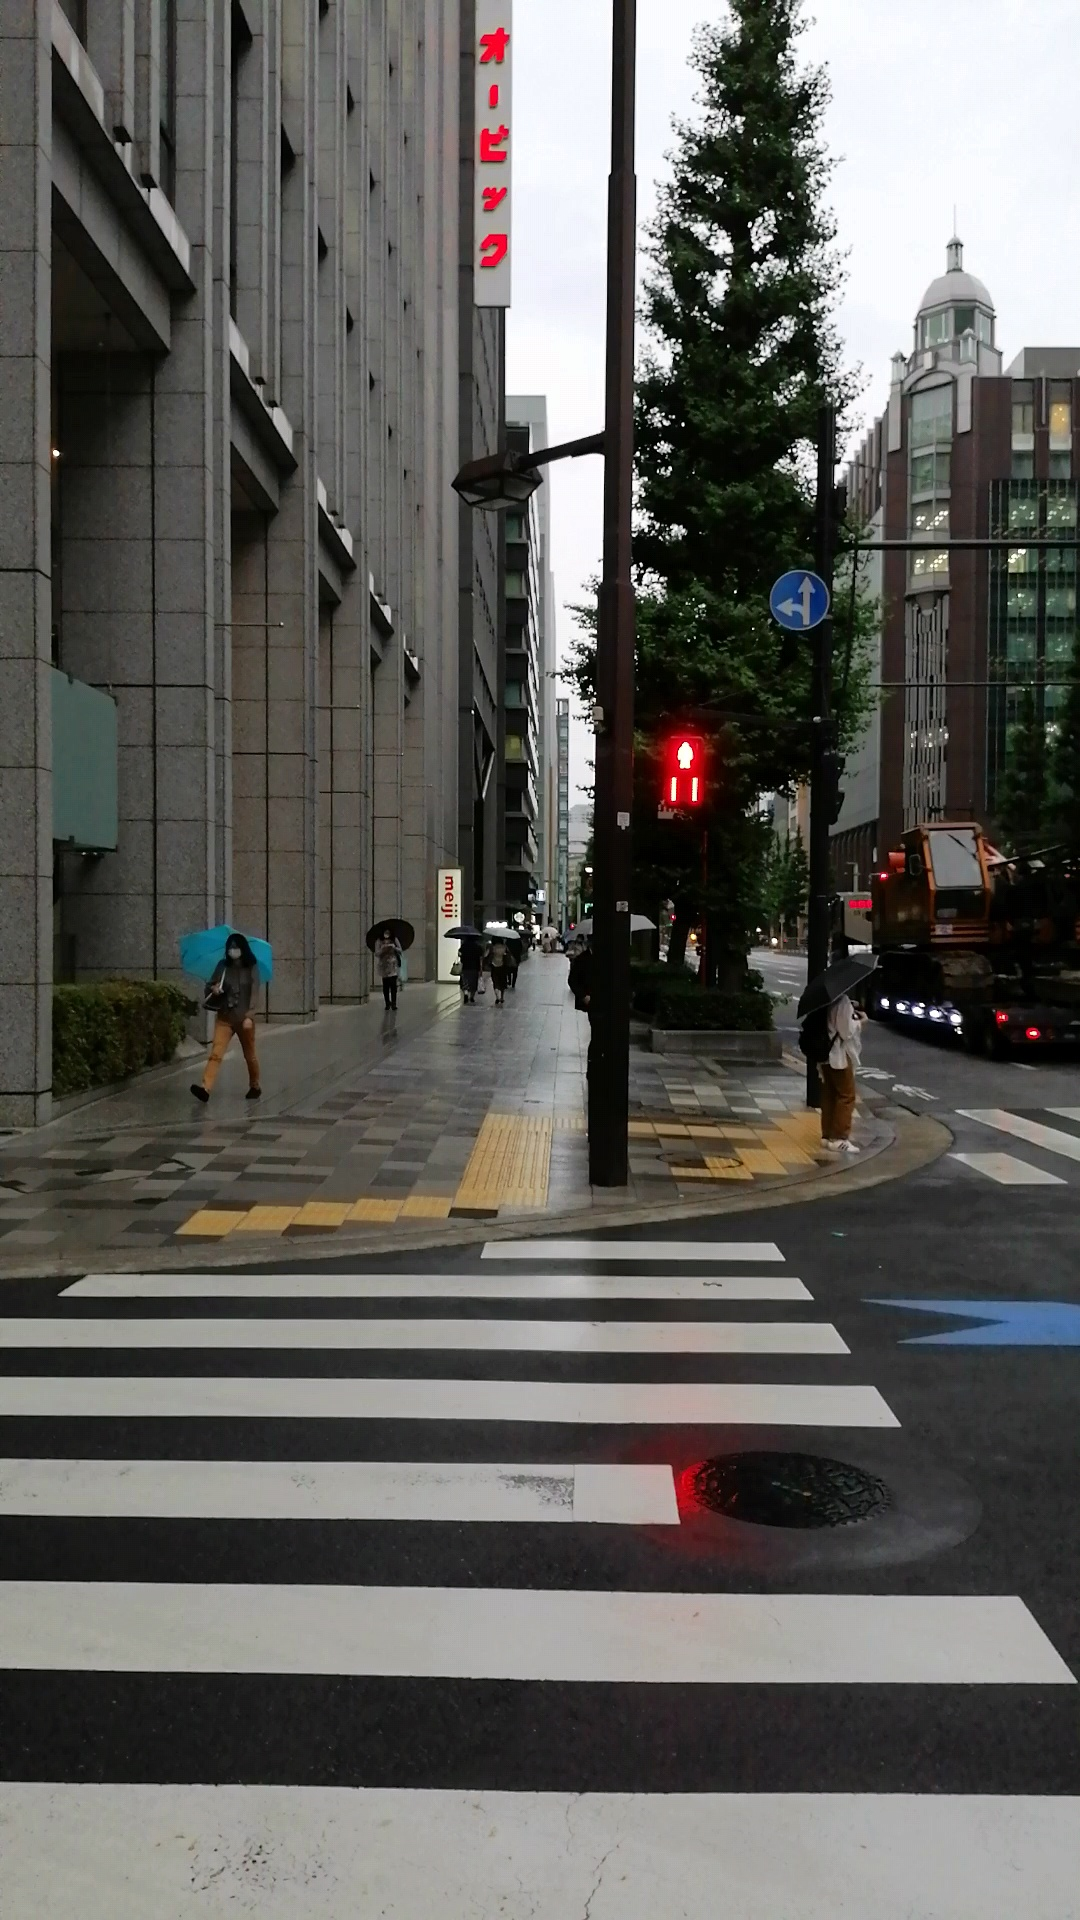red: (663, 735, 704, 808)
